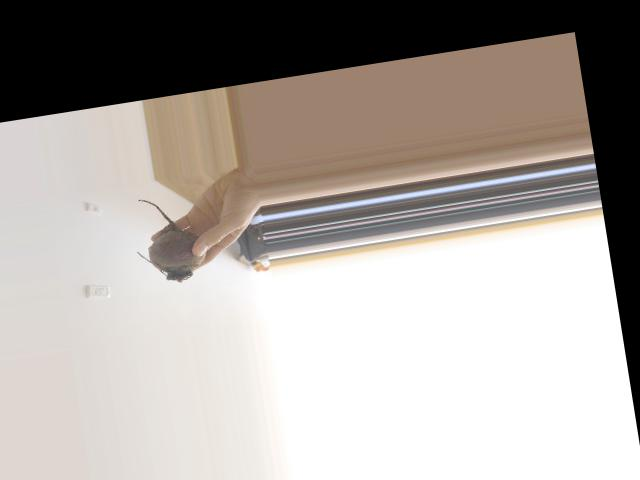beet: (127, 190, 210, 288)
